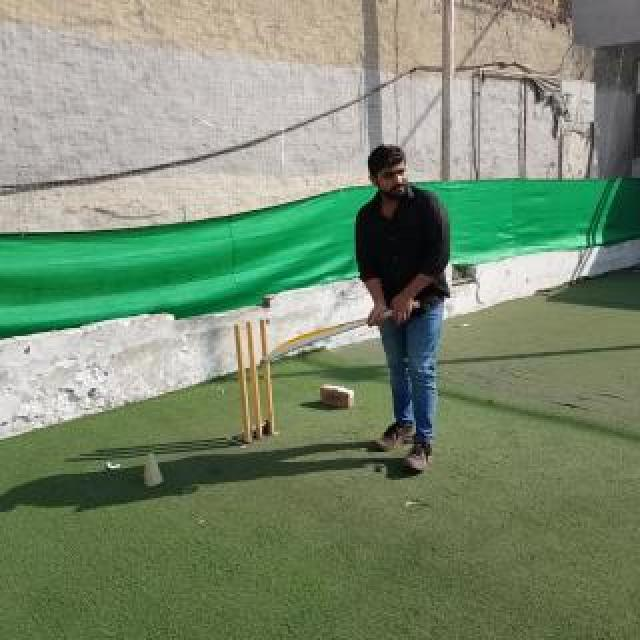bat: (259, 300, 419, 364)
